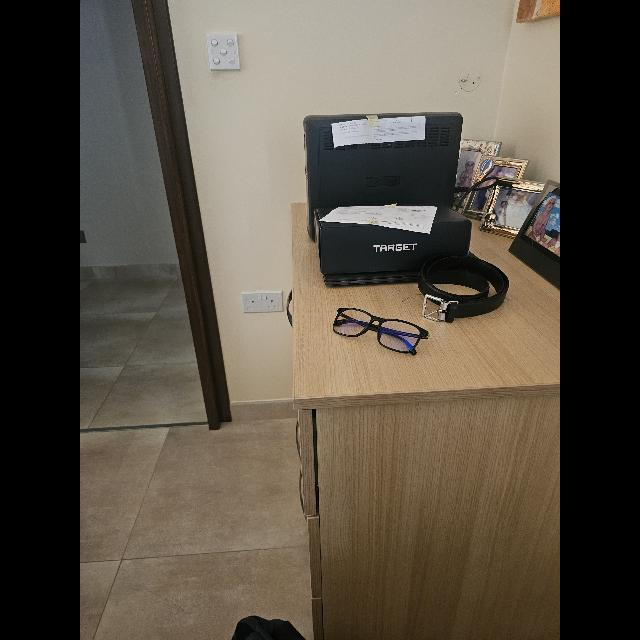glasses: (333, 308, 429, 354)
